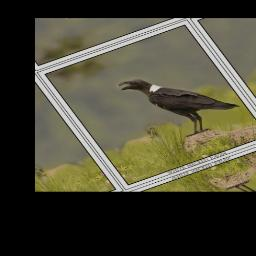Crow: (114, 53, 250, 148)
